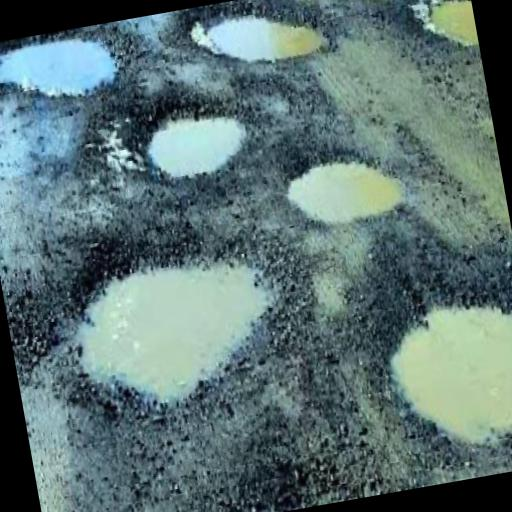pothole: (46, 207, 310, 438), (363, 267, 512, 464), (277, 130, 416, 236), (128, 83, 261, 191), (0, 18, 146, 115), (170, 0, 338, 78), (410, 0, 479, 58), (328, 0, 414, 8)
